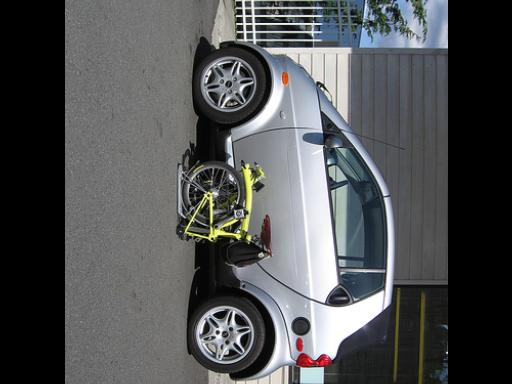Cheetah: (161, 28, 400, 384)
